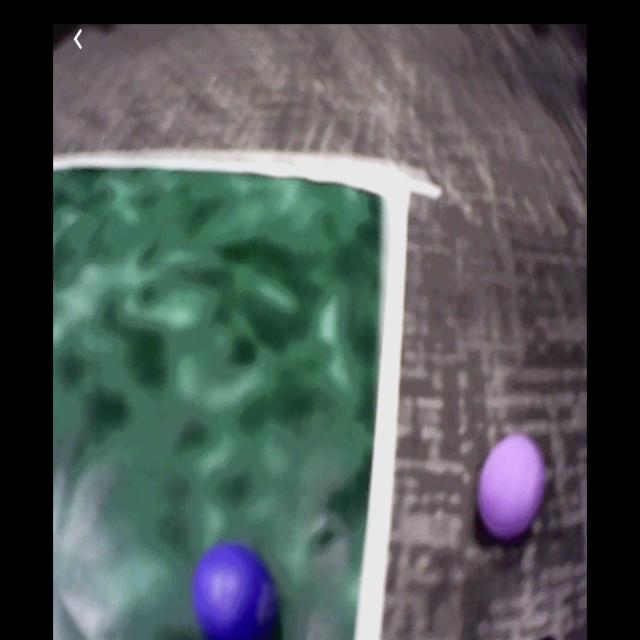ball: (198, 545, 275, 640), (480, 437, 545, 538)
